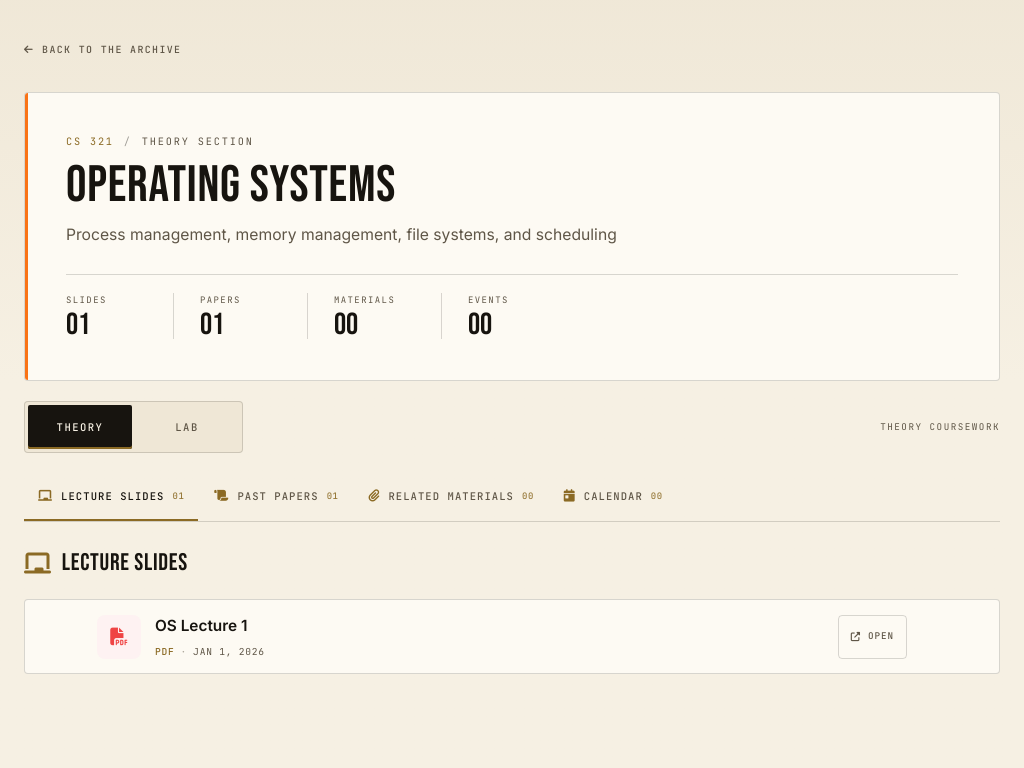
Test: CourseDetail › switches category tabs
expect the text "OS Lecture 1" is shown: met, box [155,616,247,635]
Click the tab "Past Papers 01" at (276, 497), box [200,473,352,521]
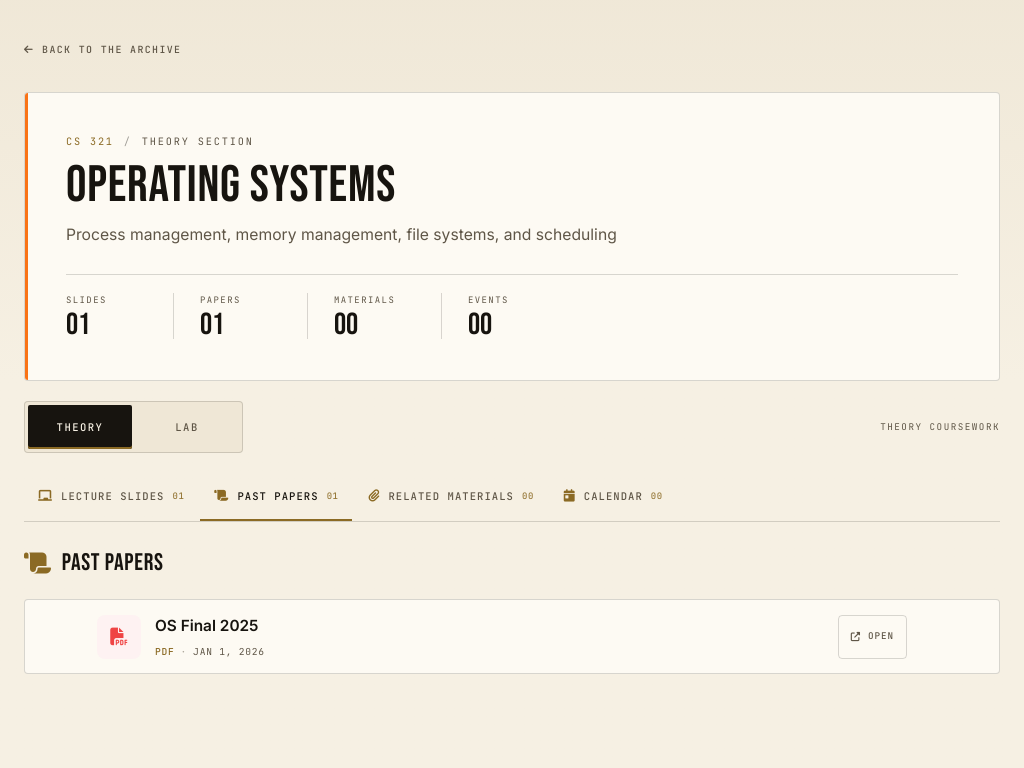
expect the text "OS Final 2025" is shown: met, box [155,616,258,635]
expect the link "OS Lecture 1" is gone: met
